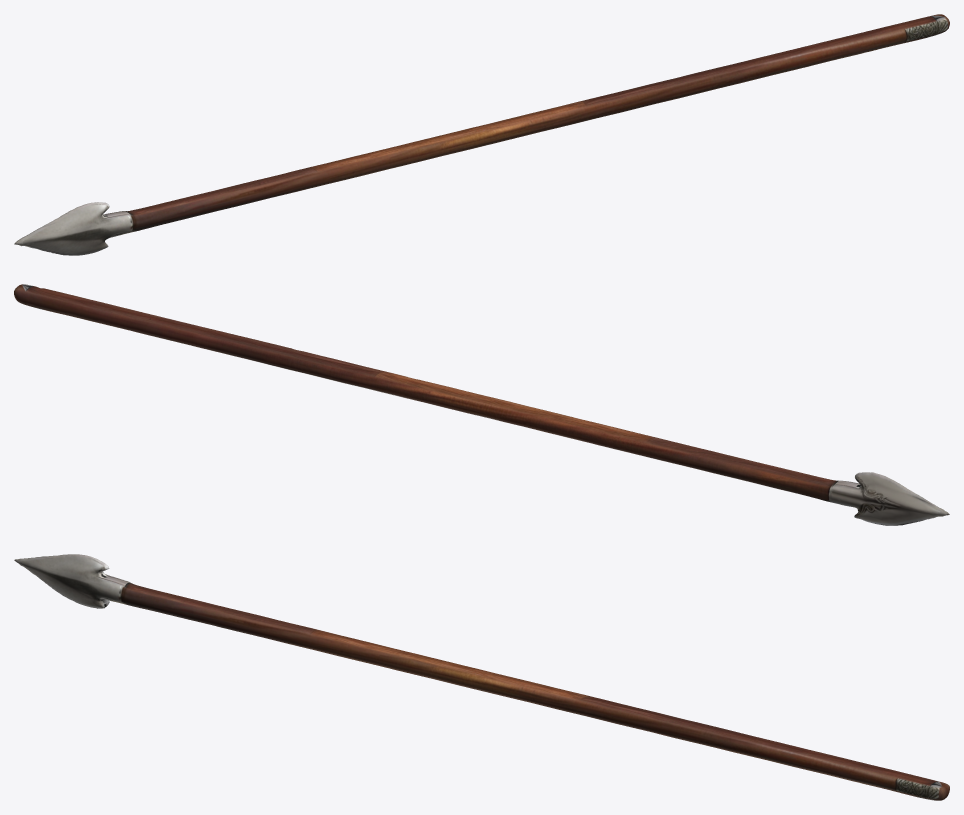
Rendered from a012_mizrak.glb.
The picture shows the model from 3 angles, top to bottom: view 1: azimuth 30°, elevation 25°; view 2: azimuth 150°, elevation 25°; view 3: azimuth 330°, elevation 25°; orthographic projection.
Bounding box in the file's own units: 1.98 × 0.103 × 0.0441.
1 material, 1 textured.
